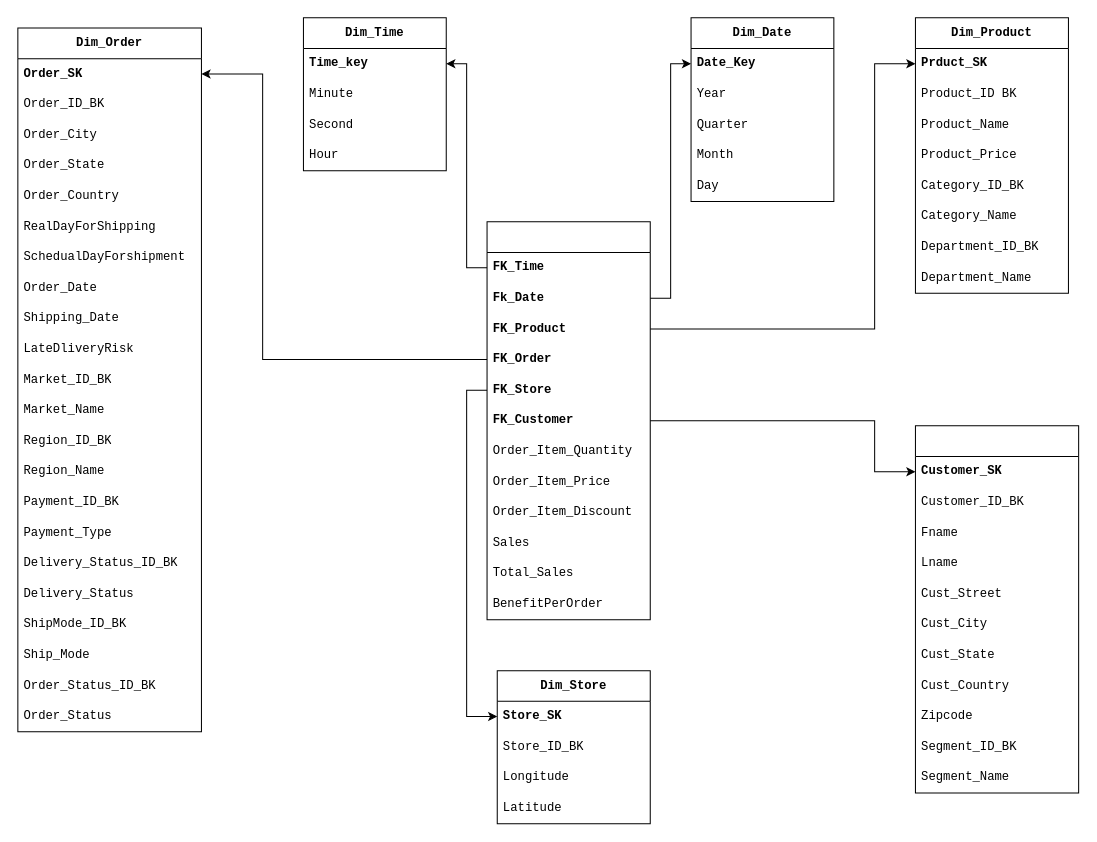
This 1097x842 diagram has some shape labels left out. Each missing label, with the box of its shape:
Dim_Customer: (914, 425, 1079, 793)
Fact_Sales: (486, 221, 650, 620)
